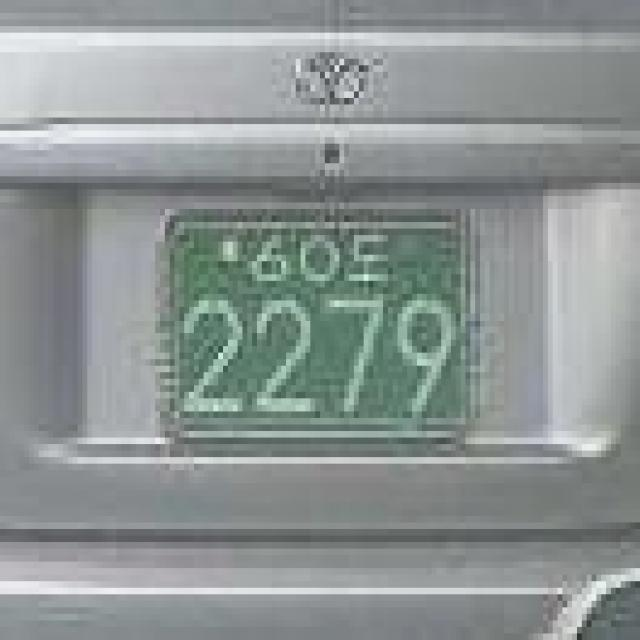illegal_plate: (150, 194, 499, 466)
